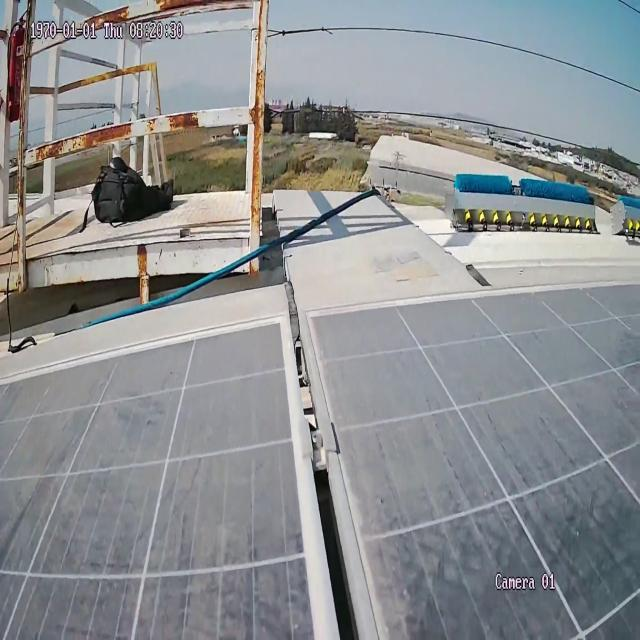interior panel: (213, 305, 427, 640)
outher panel: (0, 10, 635, 348)
